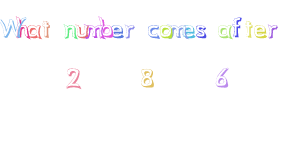2: (65, 66, 83, 90)
6: (214, 66, 231, 88)
8: (140, 66, 155, 90)
W: (1, 17, 19, 39)
a: (27, 23, 43, 40), (217, 23, 232, 39)
b: (98, 14, 113, 39)
c: (146, 23, 160, 39)
e: (253, 23, 267, 40), (111, 22, 124, 40), (183, 23, 195, 40)
f: (231, 16, 244, 38)
h: (16, 15, 29, 40)
m: (84, 23, 103, 39), (170, 24, 186, 39)
n: (62, 23, 77, 39)
o: (160, 24, 173, 39)
r: (266, 23, 279, 40), (123, 23, 135, 39)
s: (195, 23, 208, 38)
t: (243, 19, 254, 39), (42, 18, 51, 38)
u: (75, 23, 89, 40)
